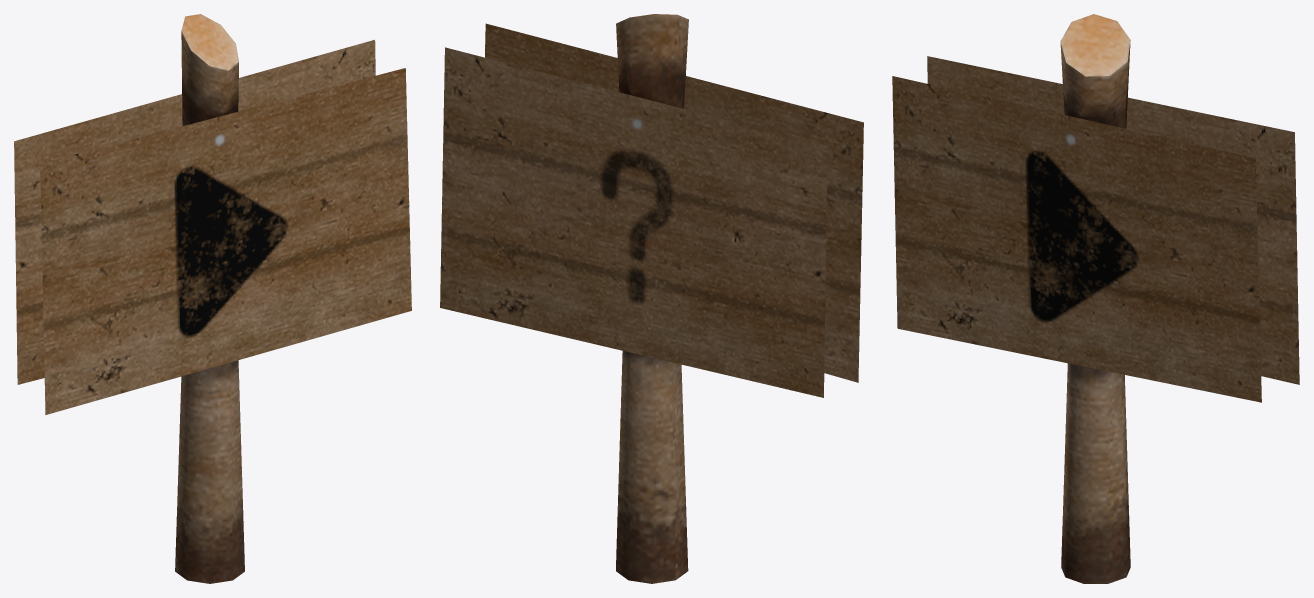
Rendered from sign.glb.
The picture shows the model from 3 angles, left to right: view 1: azimuth 30°, elevation 25°; view 2: azimuth 150°, elevation 25°; view 3: azimuth 330°, elevation 25°; orthographic projection. The views are drawn at different scales.
Parts seen in each view (by area): view 1: sign_geo; view 2: sign_geo; view 3: sign_geo.
Part boxes in pixels (<box>): sign_geo: <box>14,14,411,583</box>; sign_geo: <box>440,14,863,583</box>; sign_geo: <box>892,14,1299,583</box>.
Size of the model in its own units: 1.52 by 2.12 by 0.2454.
Materials: 1 (1 with a texture image).
